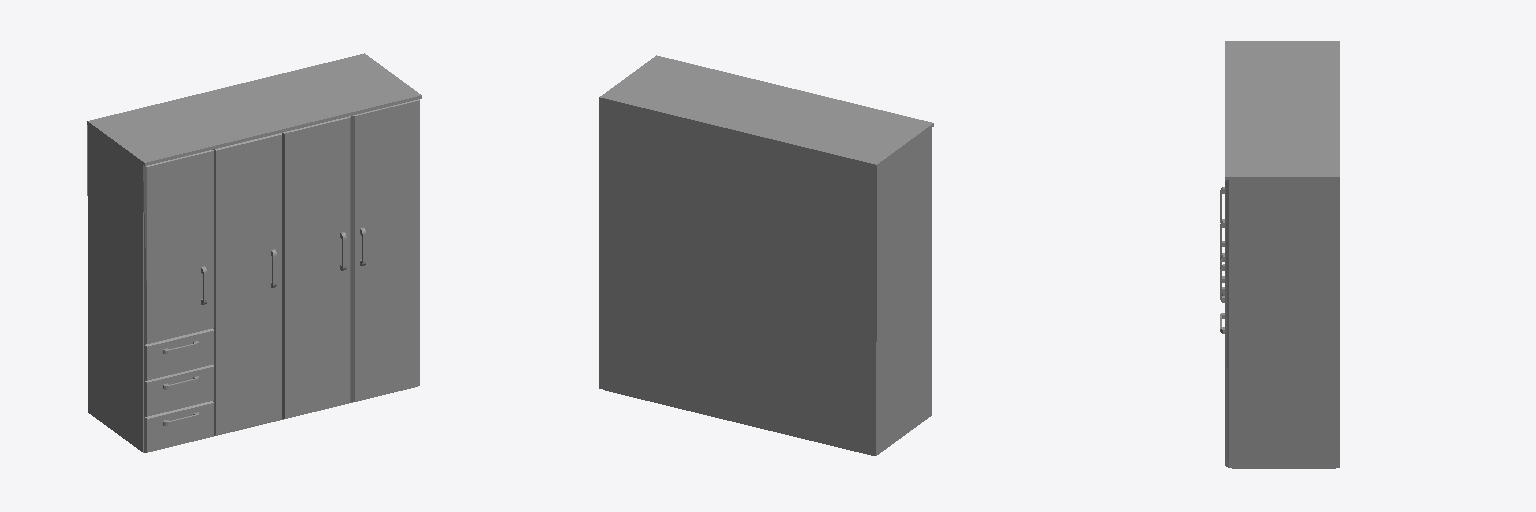
File: closet.obj
The picture shows the model from 3 angles: view 1: azimuth 30°, elevation 25°; view 2: azimuth 150°, elevation 25°; view 3: azimuth 270°, elevation 25°; orthographic projection.
Visible parts, largest first — view 1: body_Cube.001; view 2: body_Cube.001; view 3: body_Cube.001.
Part boxes in pixels (x1,y1,x2,y2): body_Cube.001: (87,53,421,452); body_Cube.001: (599,55,933,455); body_Cube.001: (1225,41,1339,468).
Bounding box in the file's own units: 4.03 × 4.08 × 1.51.